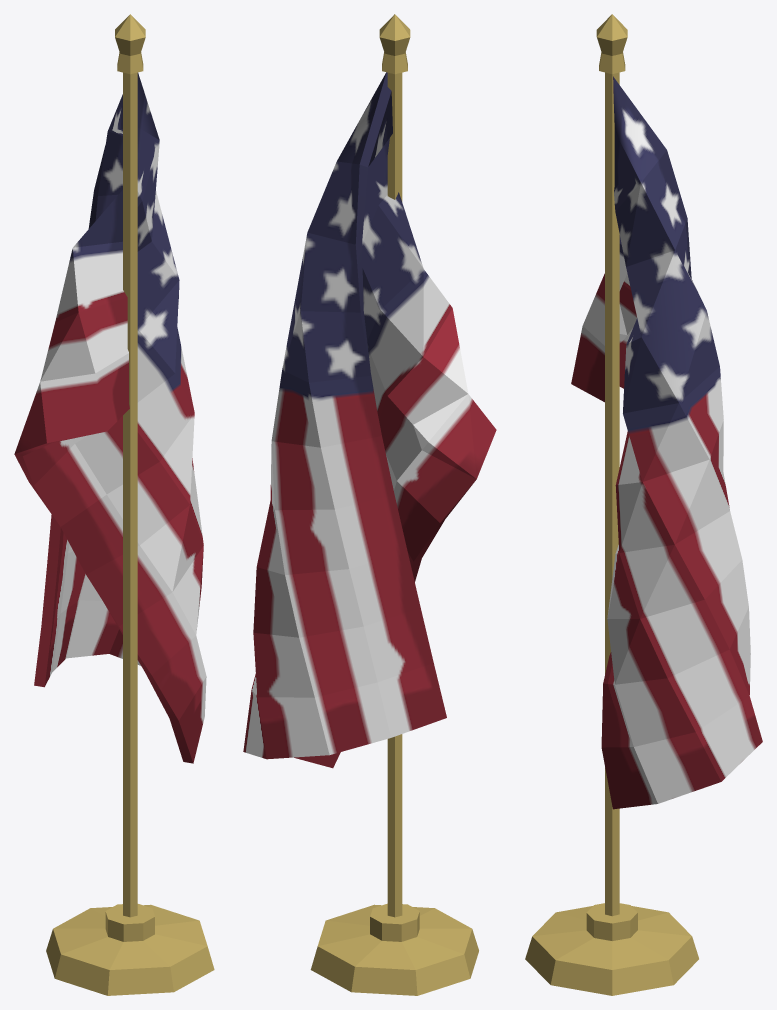
Rendered from SM_Env_Flag_Pole_USA.fbx.
The picture shows the model from 3 angles, left to right: view 1: azimuth 30°, elevation 25°; view 2: azimuth 150°, elevation 25°; view 3: azimuth 270°, elevation 25°; orthographic projection.
Parts seen in each view (by area): view 1: SM_Env_Flag_Pole_USA; view 2: SM_Env_Flag_Pole_USA; view 3: SM_Env_Flag_Pole_USA.
Part boxes in pixels (x1,y1,x2,y2): SM_Env_Flag_Pole_USA: [14, 14, 214, 995]; SM_Env_Flag_Pole_USA: [243, 14, 496, 995]; SM_Env_Flag_Pole_USA: [525, 14, 762, 995].
Size of the model in its own units: 0.00469 by 0.0211 by 0.00482.
